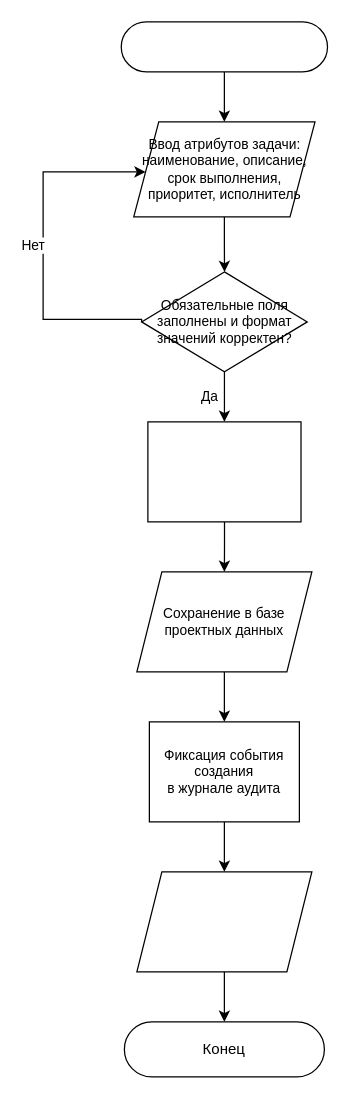
The diagram is 350 pixels wide and 1099 high, and some of its shapes have lost their labels. Here are the shapes that lost their labels. From the top down, the box of each, then its label:
(120, 21, 328, 72): Начало
(147, 421, 301, 522): Создание новой записи задачи
(136, 871, 312, 972): Возврат пользователю карточки новой задачи
